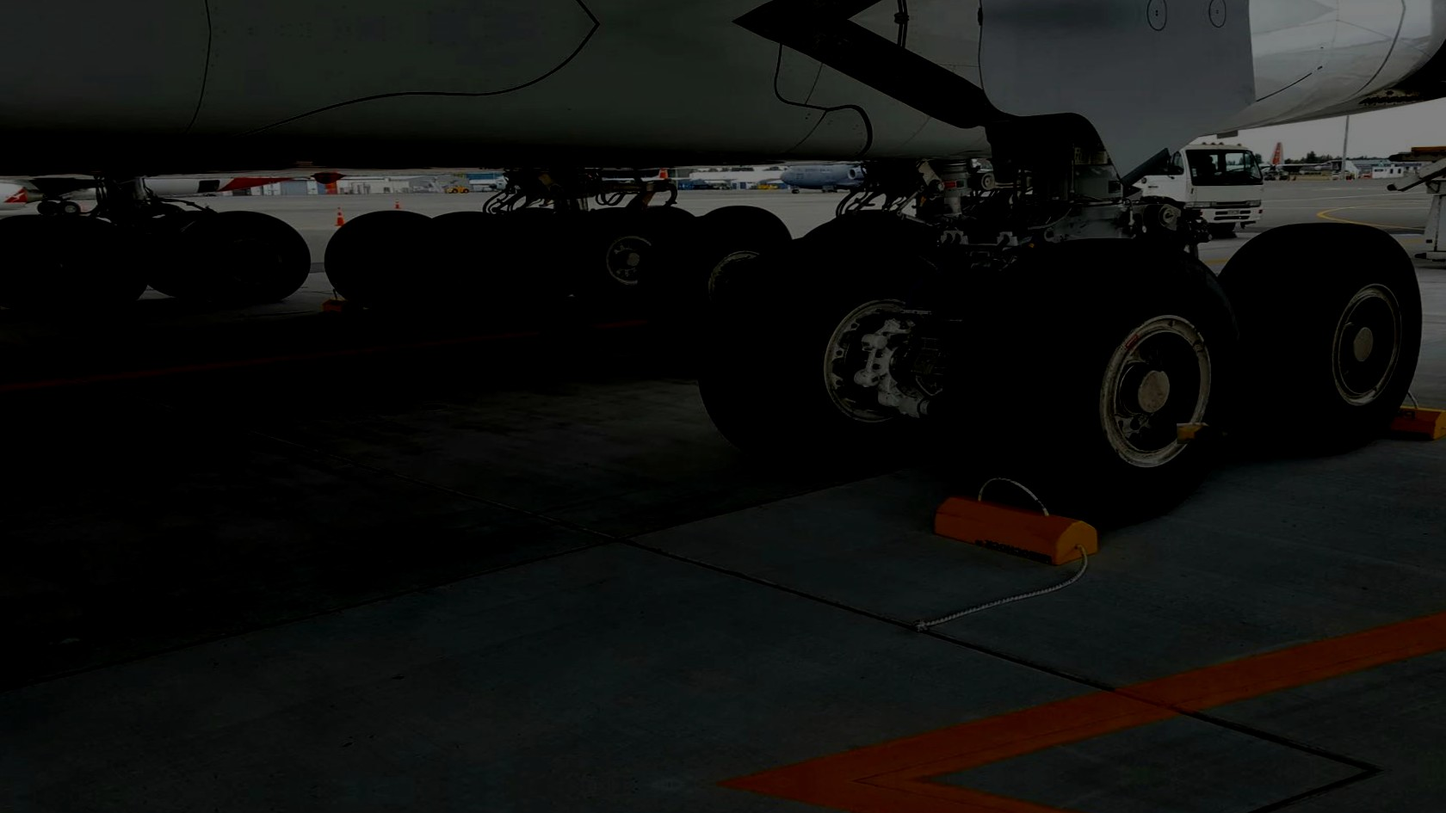chock: (929, 490, 1108, 566), (1314, 401, 1446, 443), (1177, 422, 1228, 444), (314, 299, 370, 318)
wheel: (933, 231, 1247, 524), (698, 222, 964, 475), (1207, 219, 1428, 455), (637, 204, 798, 346), (0, 213, 155, 318), (401, 209, 545, 322), (167, 208, 313, 306), (319, 207, 435, 313), (555, 206, 670, 308), (513, 207, 586, 300), (803, 211, 935, 259), (0, 212, 53, 307), (696, 203, 790, 241)
